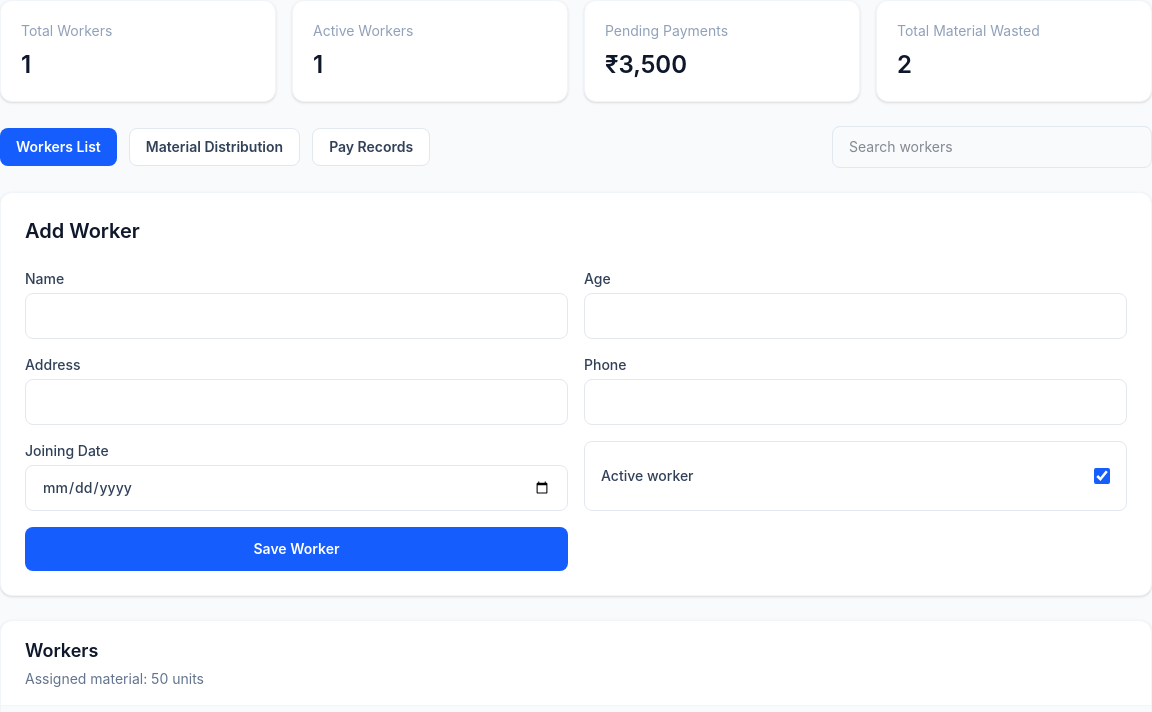
Test case: D2: Key Feature Pages RTL & MSW Integration Suite › WorkersPage › renders workers list and allows switching tabs
# User action: switch tabs
Click the button "Material Distribution" at (214, 147), box [129,128,300,166]
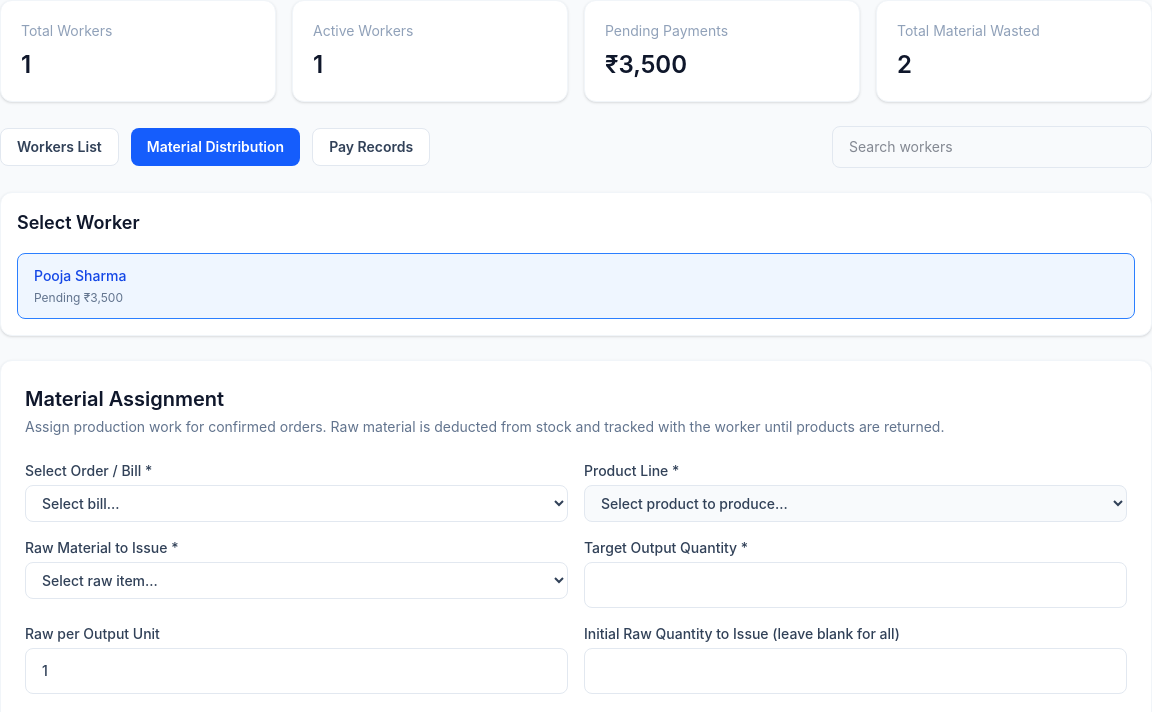
expect the heading "Material Assignment" is shown: met, box [25,387,224,411]
Click the button "Pay Records" at (371, 147), box [312,128,430,166]
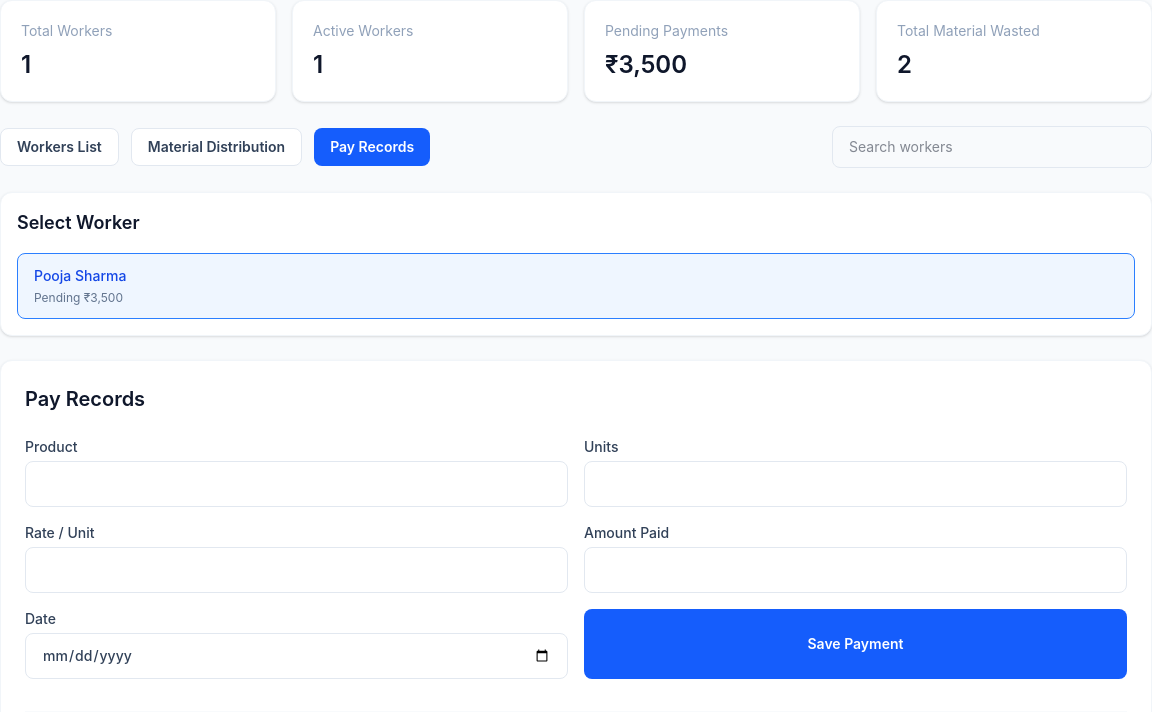
expect the heading "Pay Records" is shown: met, box [25,387,145,411]
